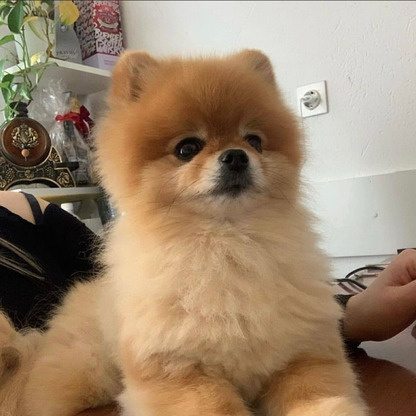Pomeranian: (100, 37, 342, 388)
